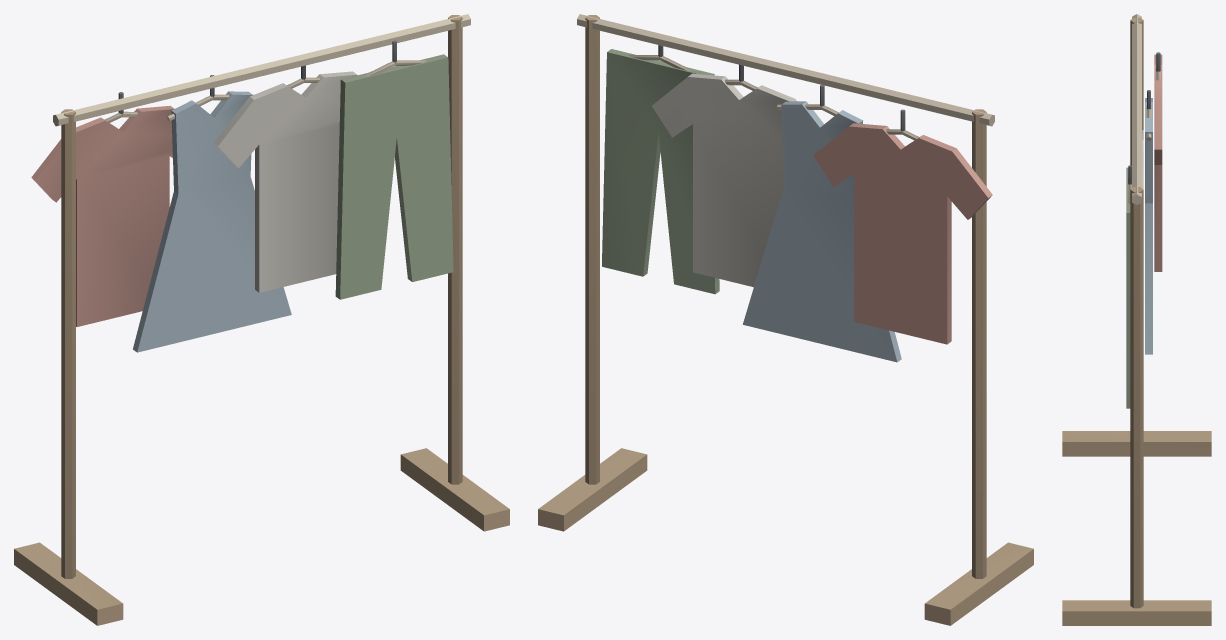
File: wear_rack_straight__plain.glb
3 views of the same model, side by side, from view 1: azimuth 30°, elevation 25°; view 2: azimuth 150°, elevation 25°; view 3: azimuth 270°, elevation 25° (orthographic). The views are drawn at different scales.
Parts seen in each view (by area): view 1: wear.rack_straight__plain; view 2: wear.rack_straight__plain; view 3: wear.rack_straight__plain.
Part boxes in pixels (bbox=[...]): wear.rack_straight__plain: bbox=[14, 14, 509, 625]; wear.rack_straight__plain: bbox=[538, 14, 1033, 625]; wear.rack_straight__plain: bbox=[1062, 14, 1211, 625].
Bounding box in the file's own units: 1.64 × 1.78 × 0.56.
